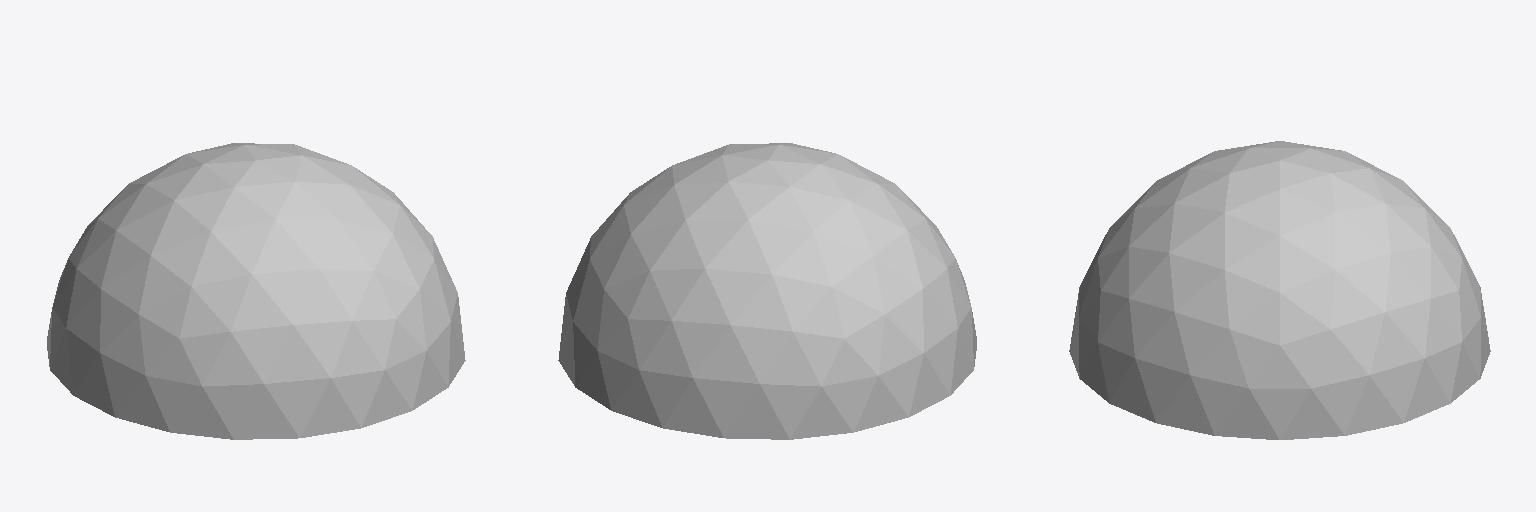
File: sky.obj
3 views of the same model, side by side, from view 1: azimuth 30°, elevation 25°; view 2: azimuth 150°, elevation 25°; view 3: azimuth 270°, elevation 25° (orthographic).
Parts seen in each view (by area): view 1: Icosphere_Icosphere.001; view 2: Icosphere_Icosphere.001; view 3: Icosphere_Icosphere.001.
Boxes of the visible parts, box(x1,y1,x2,y2) form: Icosphere_Icosphere.001: box(47, 143, 465, 439); Icosphere_Icosphere.001: box(558, 143, 976, 439); Icosphere_Icosphere.001: box(1069, 141, 1490, 439).
Size of the model in its own units: 2 by 1 by 2.